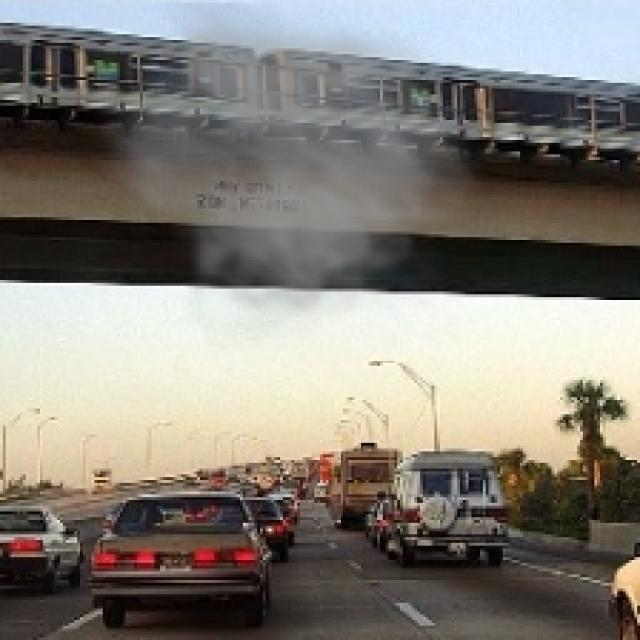Smoke: (86, 2, 494, 354)
